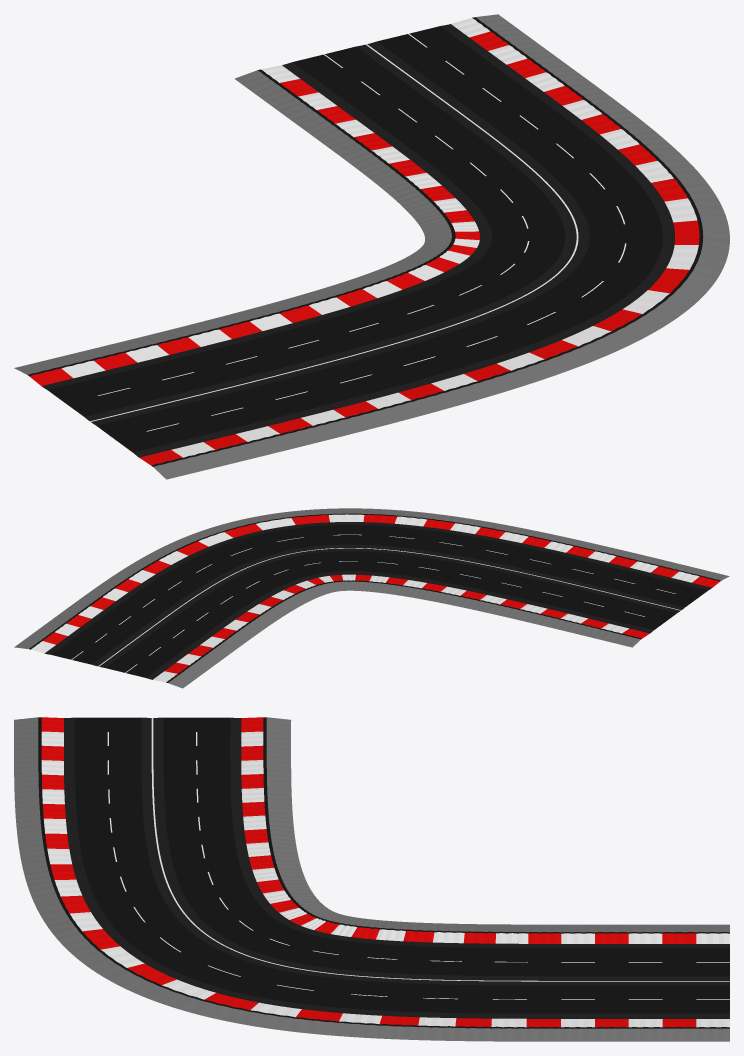
The model's file is S0.2l3-corner.glb.
The picture shows the model from 3 angles, top to bottom: view 1: azimuth 30°, elevation 25°; view 2: azimuth 150°, elevation 25°; view 3: azimuth 270°, elevation 25°; orthographic projection. The views are drawn at different scales.
Visible parts, largest first — view 1: Grid; view 2: Grid; view 3: Grid.
Boxes of the visible parts, x1,y1,x2,y2 form: Grid: [14, 14, 729, 479]; Grid: [14, 508, 729, 688]; Grid: [14, 717, 729, 1041].
Bounding box in the file's own units: 68.71 × 0.31 × 64.59.
